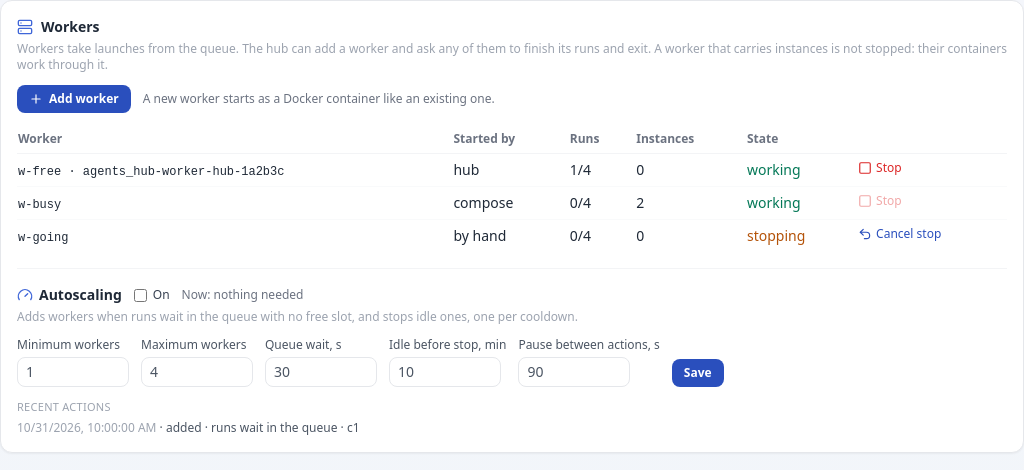
Test: WorkersCard › adds a worker and tells the page
What coordinates should you click on to do the following:
click the button "Add worker"
I would click on:
 (74, 99)
Its box is [17, 85, 131, 113].
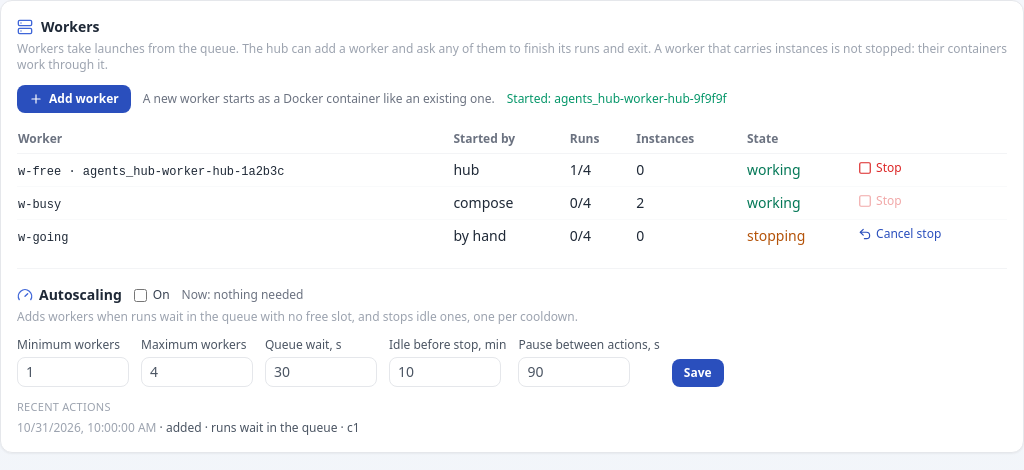
Expected: the text "Started: agents_hub-worker-hub-9f9f9f" is shown, [507, 91, 727, 107]
